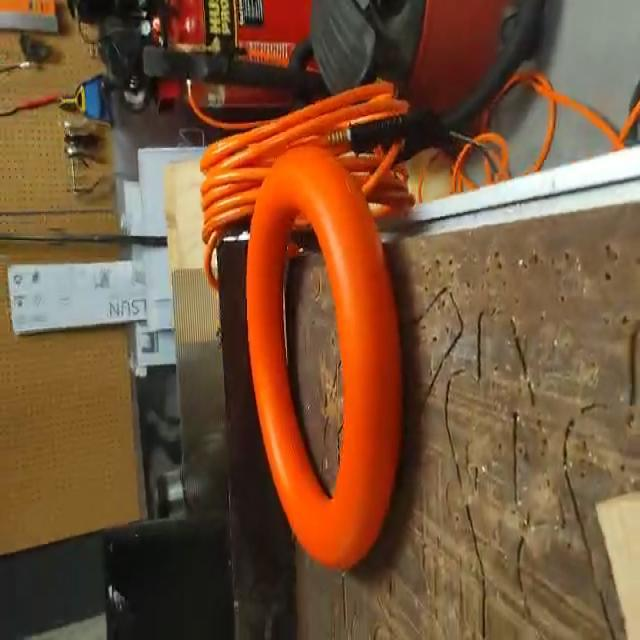note: (243, 147, 403, 571)
